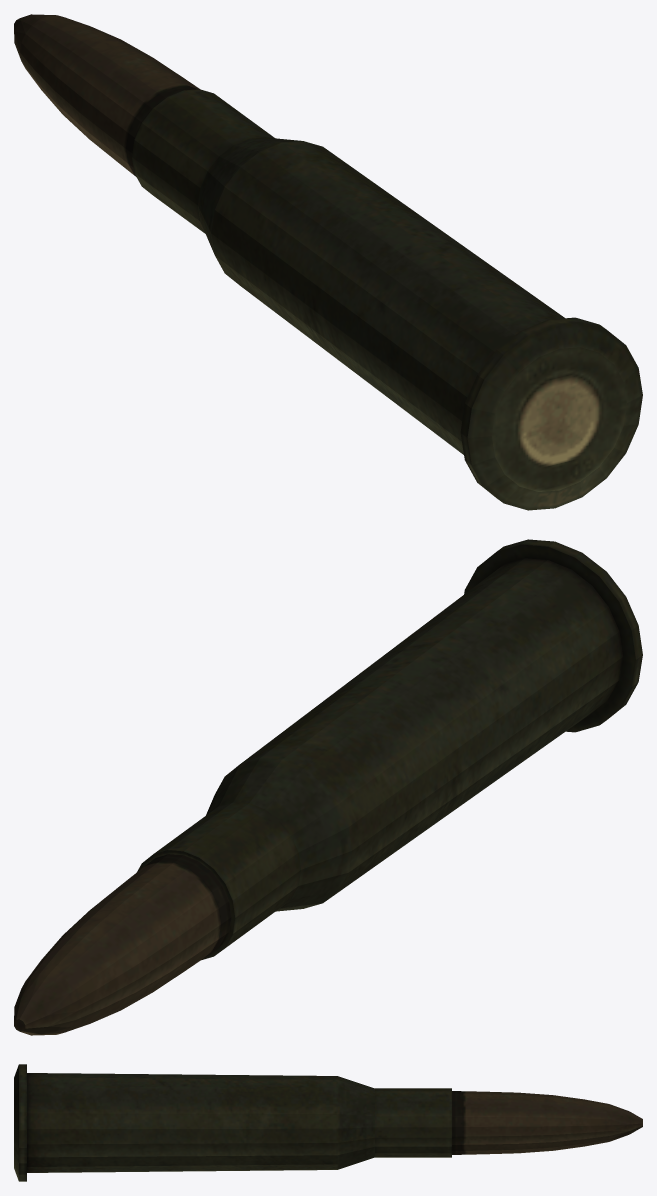
The picture shows the model from 3 angles, top to bottom: view 1: azimuth 30°, elevation 25°; view 2: azimuth 150°, elevation 25°; view 3: azimuth 270°, elevation 25°; orthographic projection. The views are drawn at different scales.
Visible parts, largest first — view 1: TW_5e023d48186a883be655e551_PZ_Import; view 2: TW_5e023d48186a883be655e551_PZ_Import; view 3: TW_5e023d48186a883be655e551_PZ_Import.
Part boxes in pixels (left/top/right/bottom): TW_5e023d48186a883be655e551_PZ_Import: left=14, top=14, right=642, bottom=510; TW_5e023d48186a883be655e551_PZ_Import: left=14, top=539, right=642, bottom=1035; TW_5e023d48186a883be655e551_PZ_Import: left=14, top=1064, right=642, bottom=1181.
Bounding box in the file's own units: 0.00837 × 0.0446 × 0.00837.
Materials: 1 (1 with a texture image).
